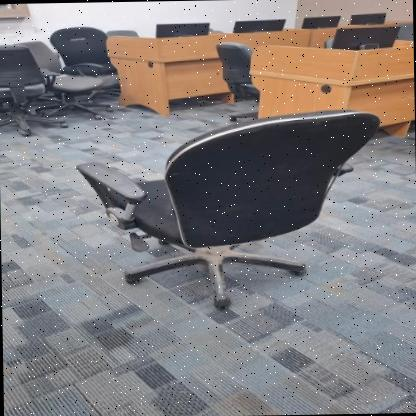chair: (67, 94, 390, 314)
